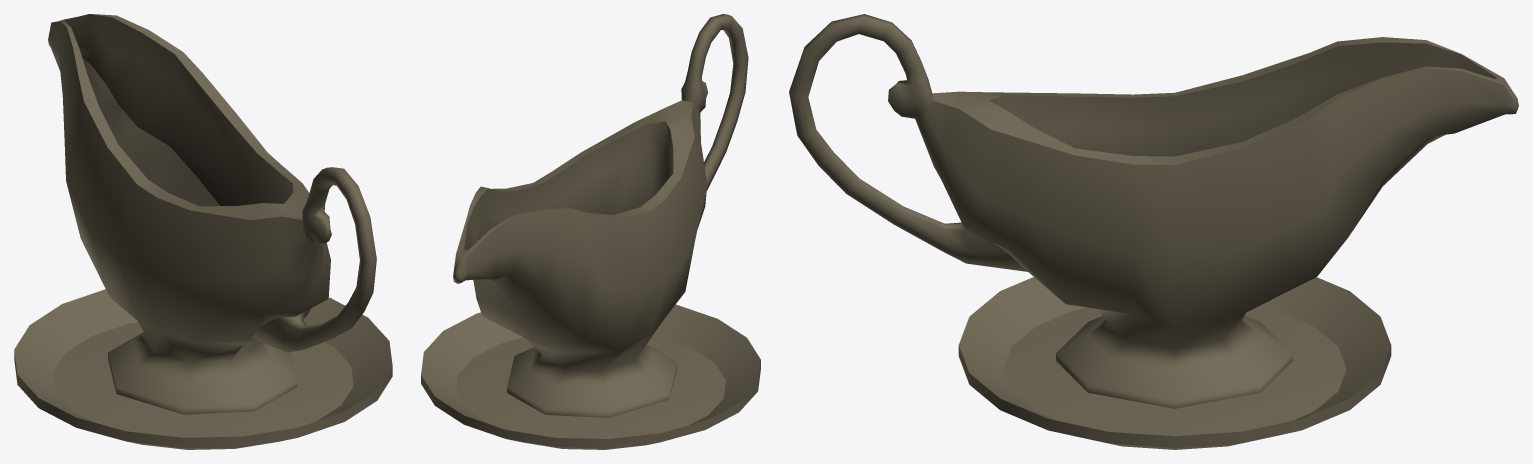
The model's file is Gravy.fbx.
3 views of the same model, side by side, from view 1: azimuth 30°, elevation 25°; view 2: azimuth 150°, elevation 25°; view 3: azimuth 270°, elevation 25° (orthographic). The views are drawn at different scales.
Visible parts, largest first — view 1: Gravy_boat1; view 2: Gravy_boat1; view 3: Gravy_boat1.
Part boxes in pixels (x1,y1,x2,y2): Gravy_boat1: (14,14,392,449); Gravy_boat1: (421,14,760,449); Gravy_boat1: (789,14,1518,449).
Bounding box in the file's own units: 108 × 100 × 182.
